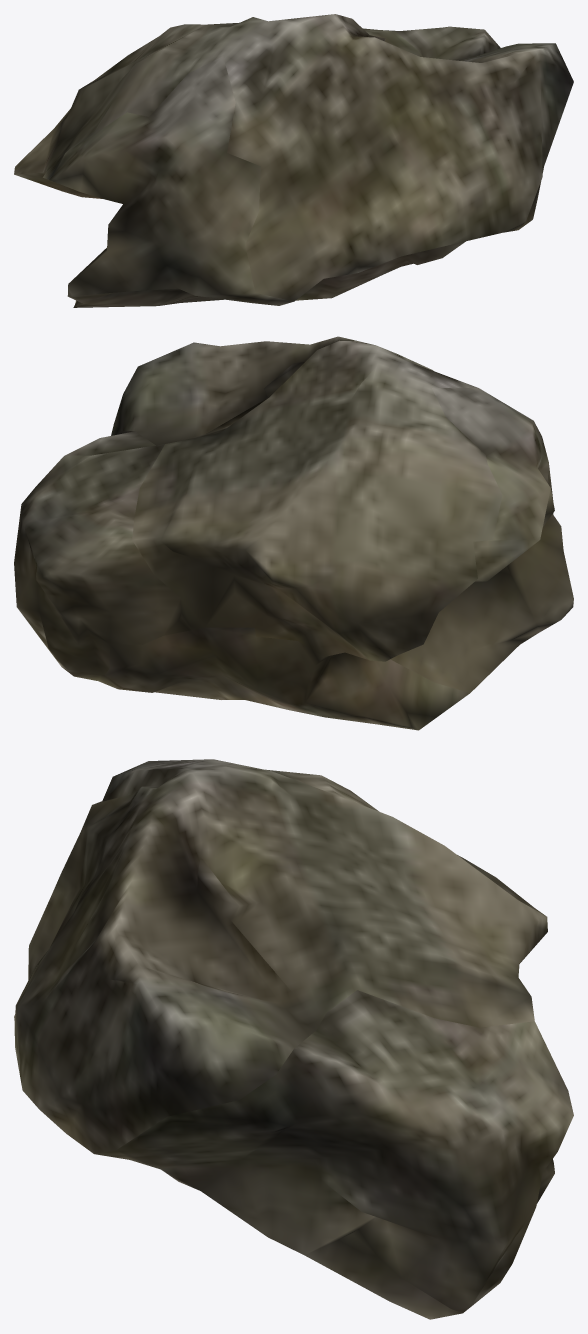
Rendered from rock_moss_set_02_rock11.glb.
The picture shows the model from 3 angles, top to bottom: view 1: azimuth 30°, elevation 25°; view 2: azimuth 150°, elevation 25°; view 3: azimuth 270°, elevation 25°; orthographic projection. The views are drawn at different scales.
Visible parts, largest first — view 1: rock_moss_set_02_rock11; view 2: rock_moss_set_02_rock11; view 3: rock_moss_set_02_rock11.
Part boxes in pixels (x1,y1,x2,y2): rock_moss_set_02_rock11: (14,14,573,307); rock_moss_set_02_rock11: (14,336,573,730); rock_moss_set_02_rock11: (14,759,573,1319).
Size of the model in its own units: 1.95 by 1.31 by 1.53.
Materials: 1 (1 with a texture image).
